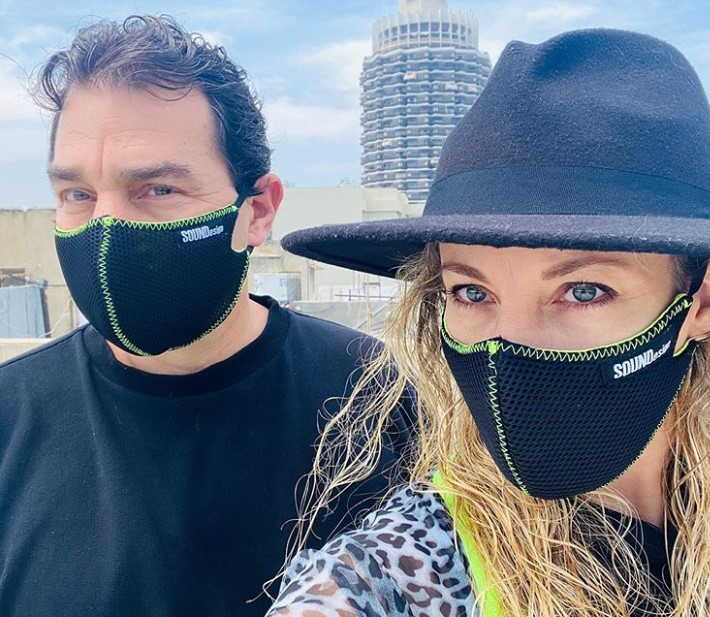face_with_mask: (385, 27, 703, 512), (29, 11, 283, 382)
